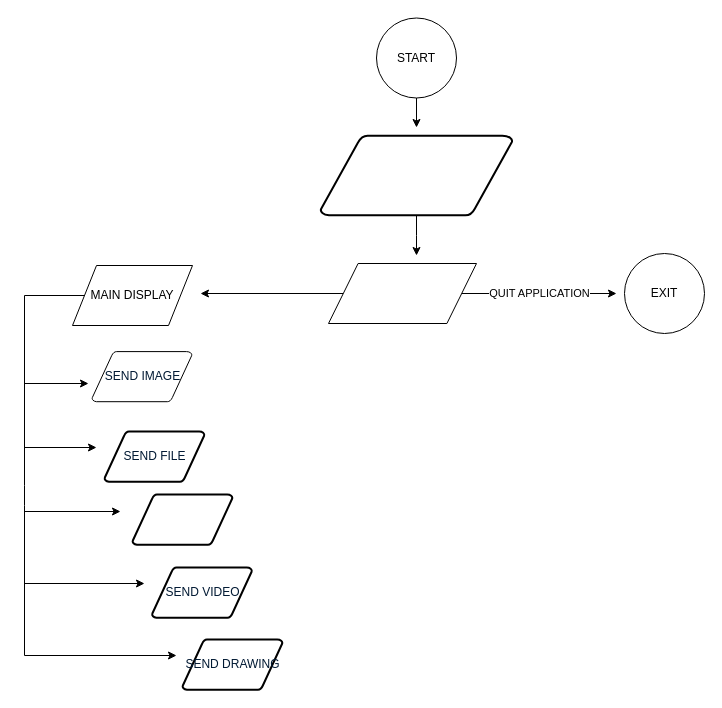
This 722x708 diagram has some shape labels left out. Each missing label, with the centre of its shape:
CONNECT WIFI DIRECT: point 416,175
INPUT USERNAME: point 402,293
SEND AUDIO: point 182,519
